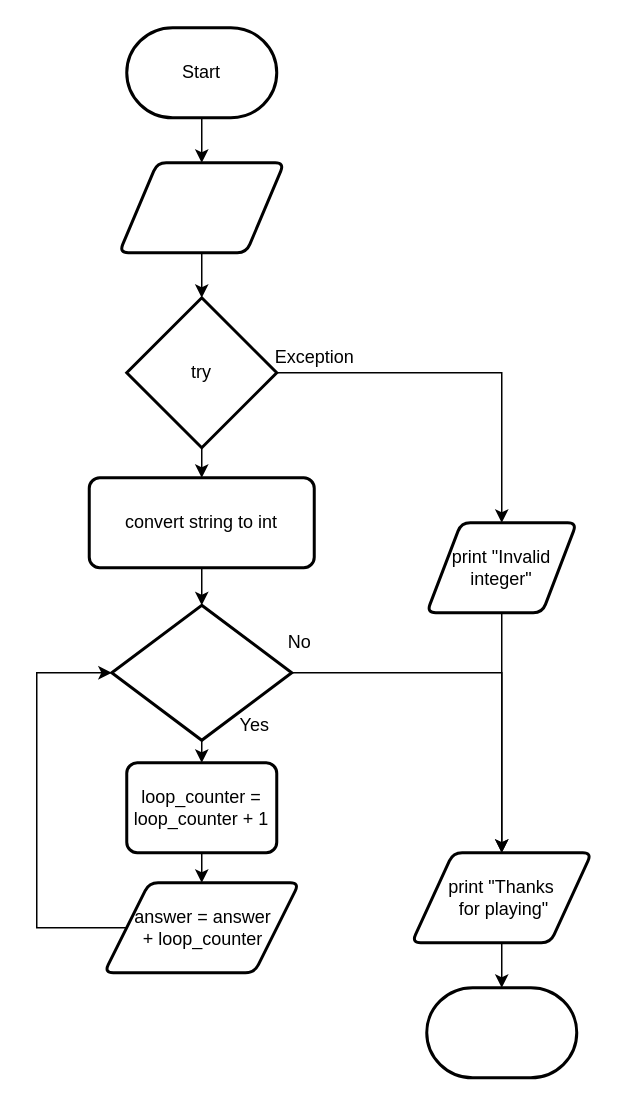
Image size: 620x1104. Some labels were removed from this diagram. Each missing label, with the centre of its shape:
"Ask for year" belongs at pixel 201 207.
"Stop" belongs at pixel 501 1032.
"while loop_counter < int_integer" belongs at pixel 201 672.
